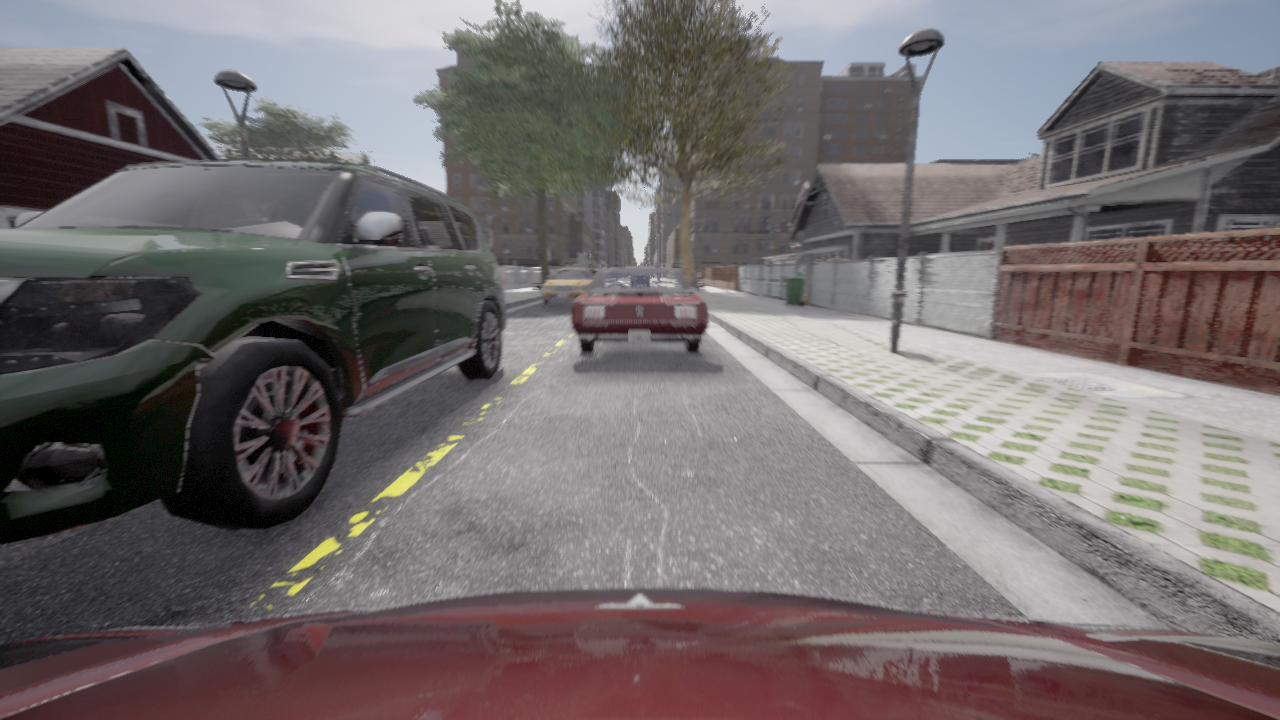cyclist: (0, 160, 505, 545), (0, 588, 1279, 719), (571, 268, 708, 352), (542, 264, 593, 305), (587, 269, 598, 276), (695, 272, 697, 281)
